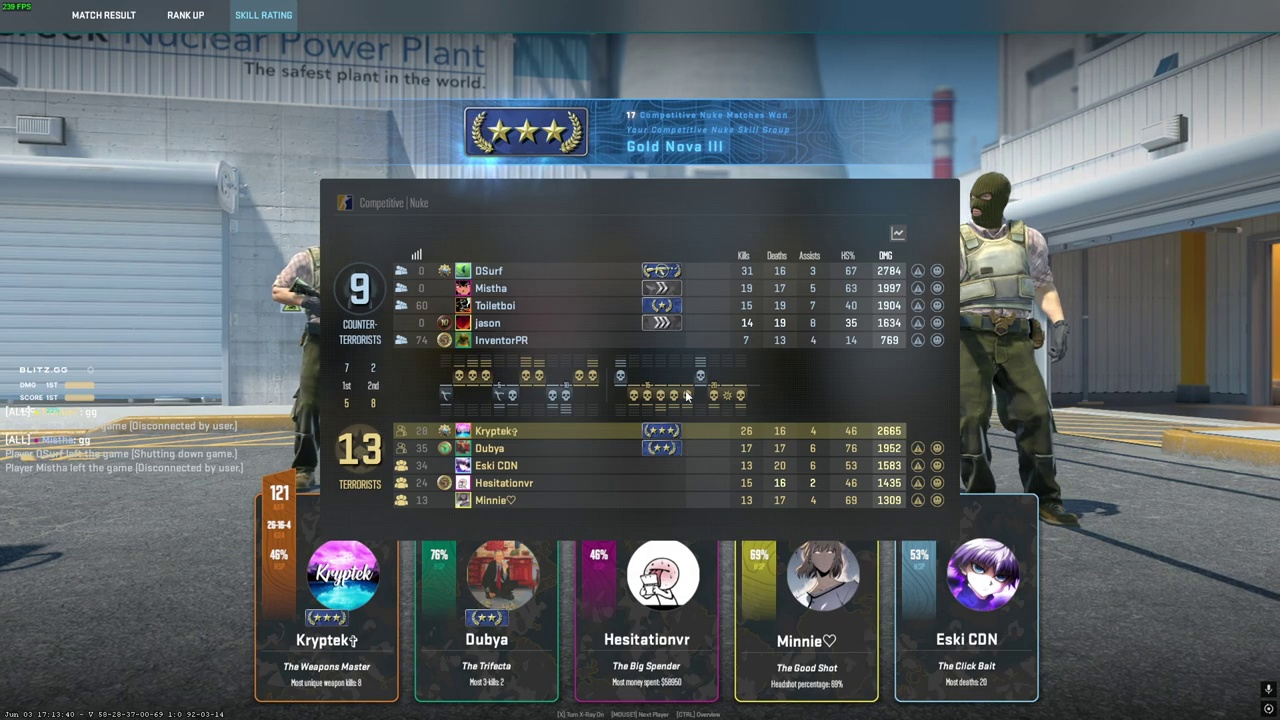Terrorist: (956, 172, 1064, 528), (285, 245, 322, 493)
